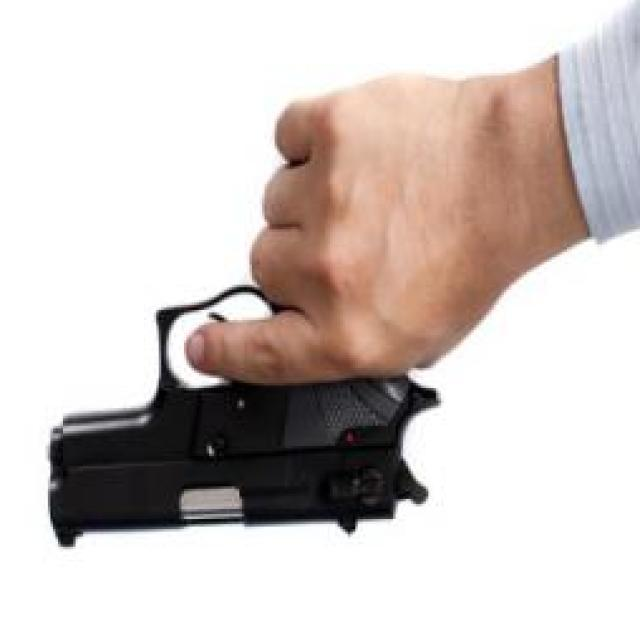pistol: (42, 279, 441, 546)
